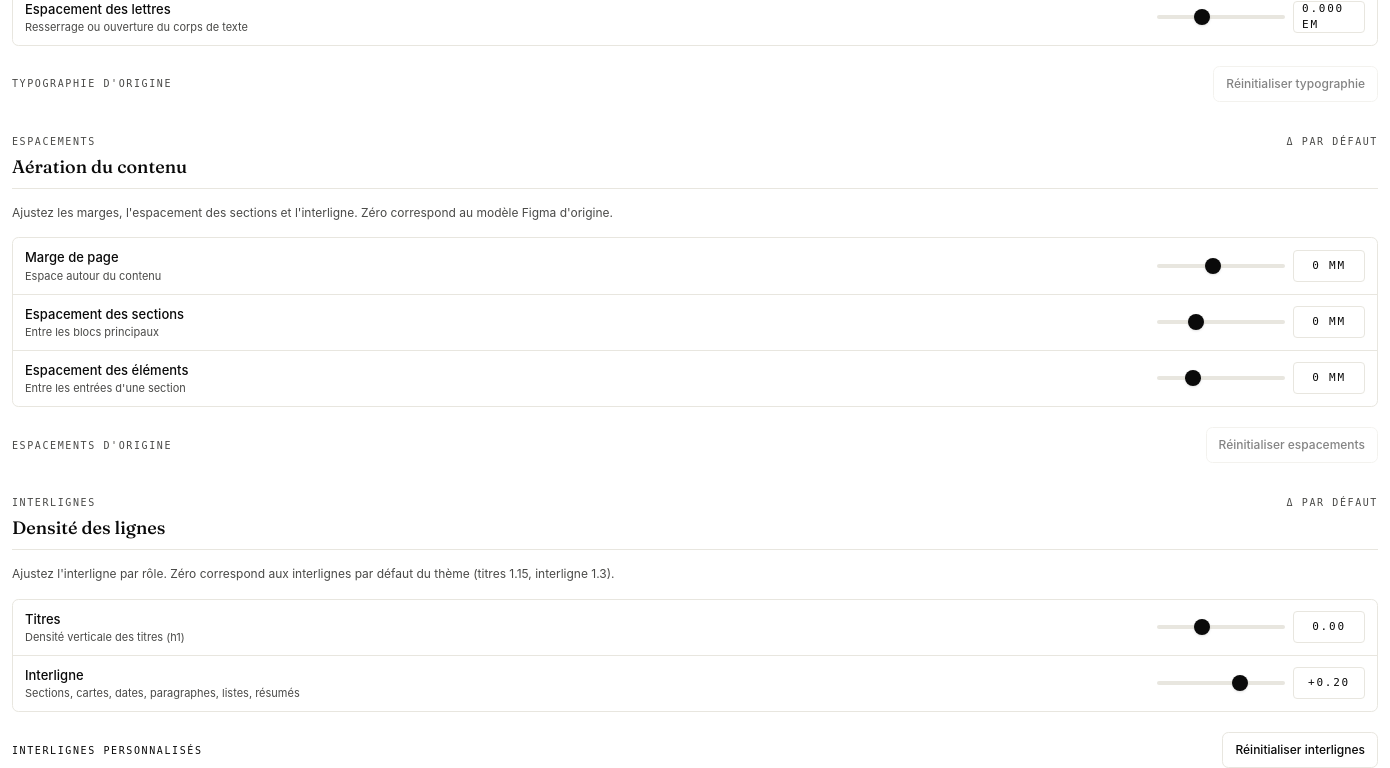
Test case: DesignPanel — Espacements › Réinitialiser interlignes resets only line-height sliders and disables itself
(page scrolled)
Click the button "Réinitialiser interlignes" at point(1300, 750), box [1222,732,1378,767]
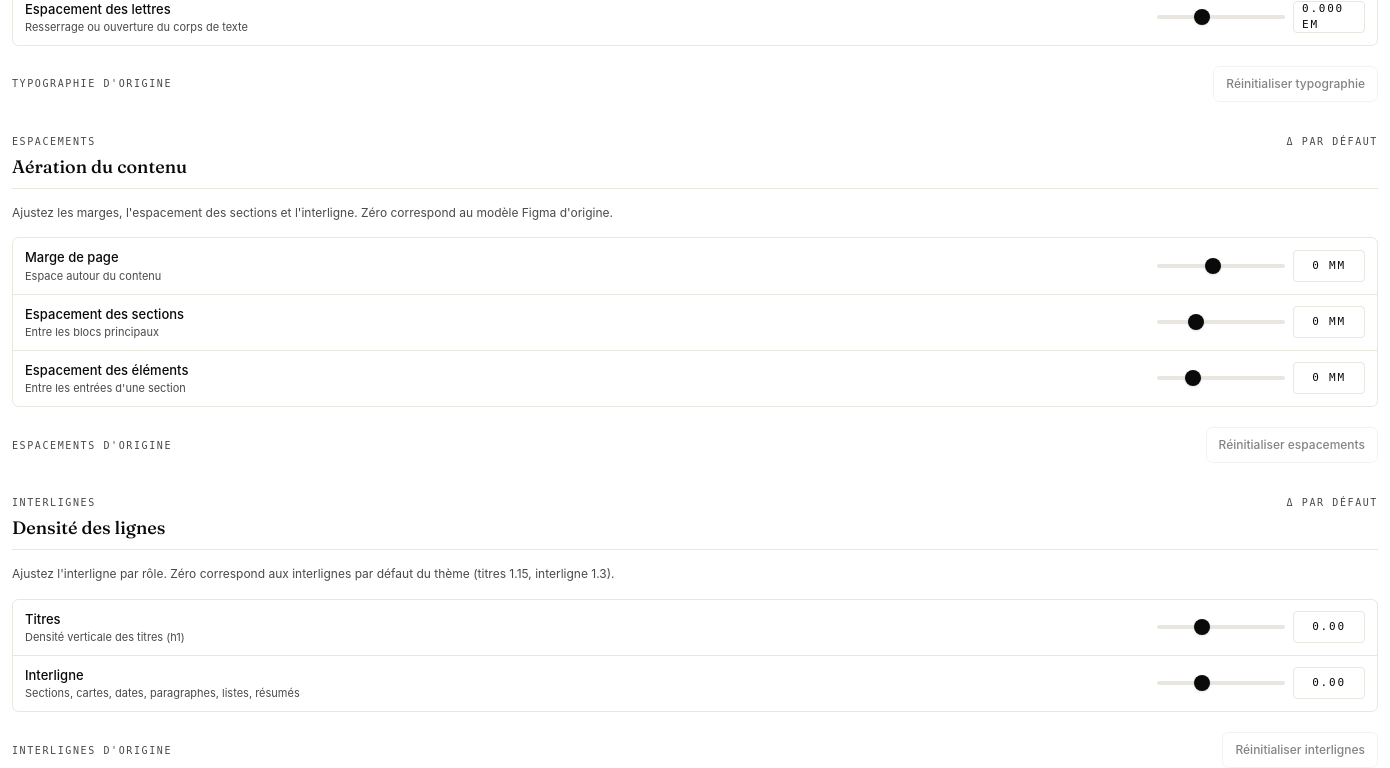
Expected: the slider named "Interligne — Titres" holds "0", [1157,625,1285,629]
Now the button "Réinitialiser interlignes" is disabled, box [1222,732,1378,767]
Now the slider named "Interligne — Interligne" holds "0", box [1157,681,1285,685]
